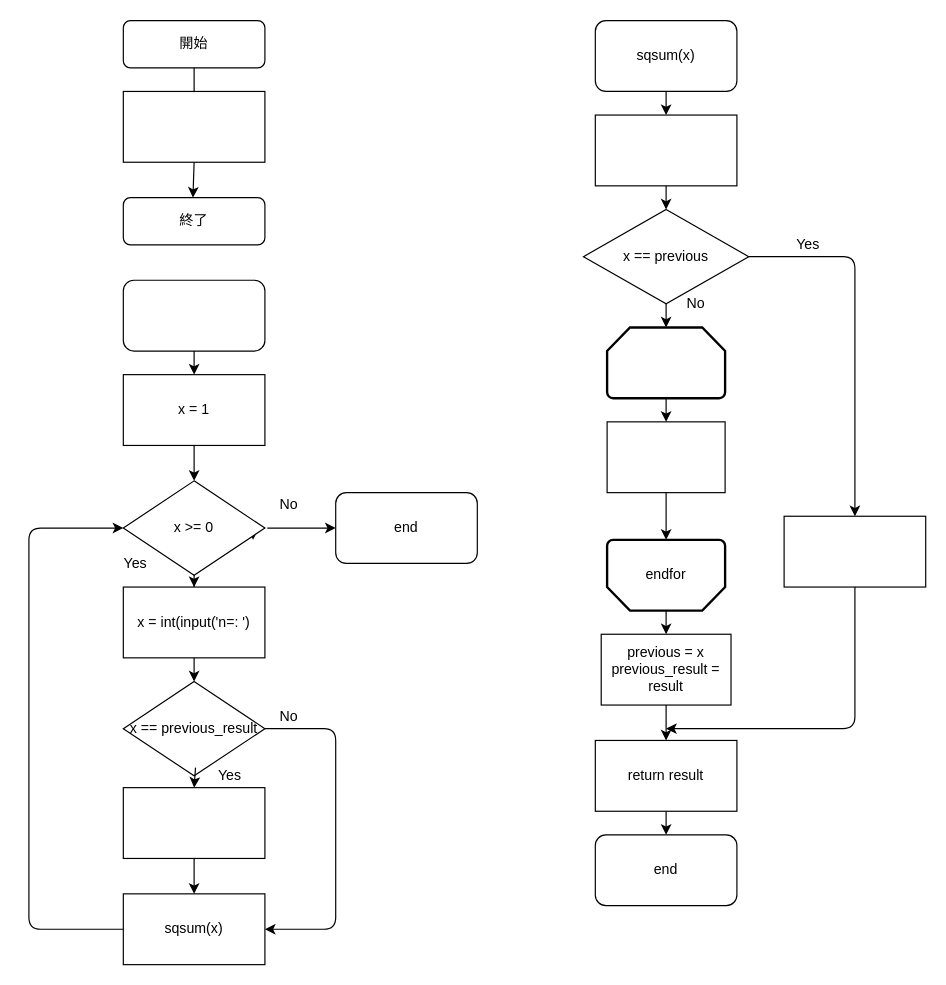
The diagram is 946 pixels wide and 985 high, and some of its shapes have lost their labels. The shapes that lost their labels are listed below. From the top down, each one's centre as x and y in pixels, then its label:
point 193,126: previous = 0 previous_result = 0 main()
point 665,150: result = 0 global previous, previous_result
point 193,315: main()
point 665,362: for i in range(x+1)
point 665,457: result += i ** 2
point 854,551: result = previous_result
point 193,822: print('previous call')
